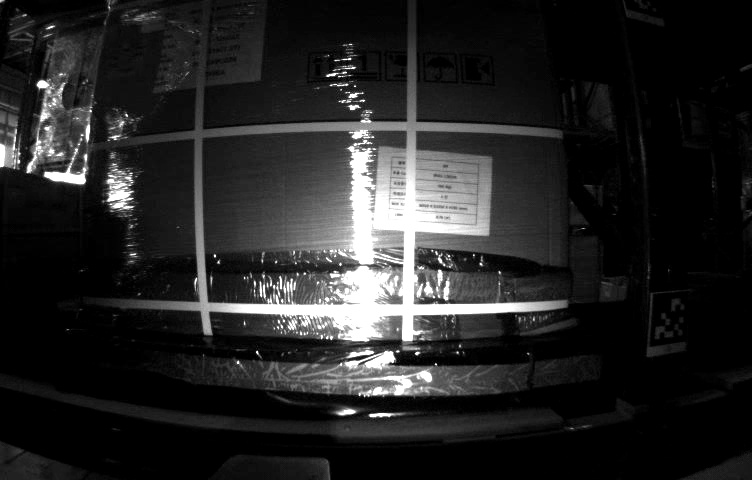True Barcode: (107, 42, 145, 73)
